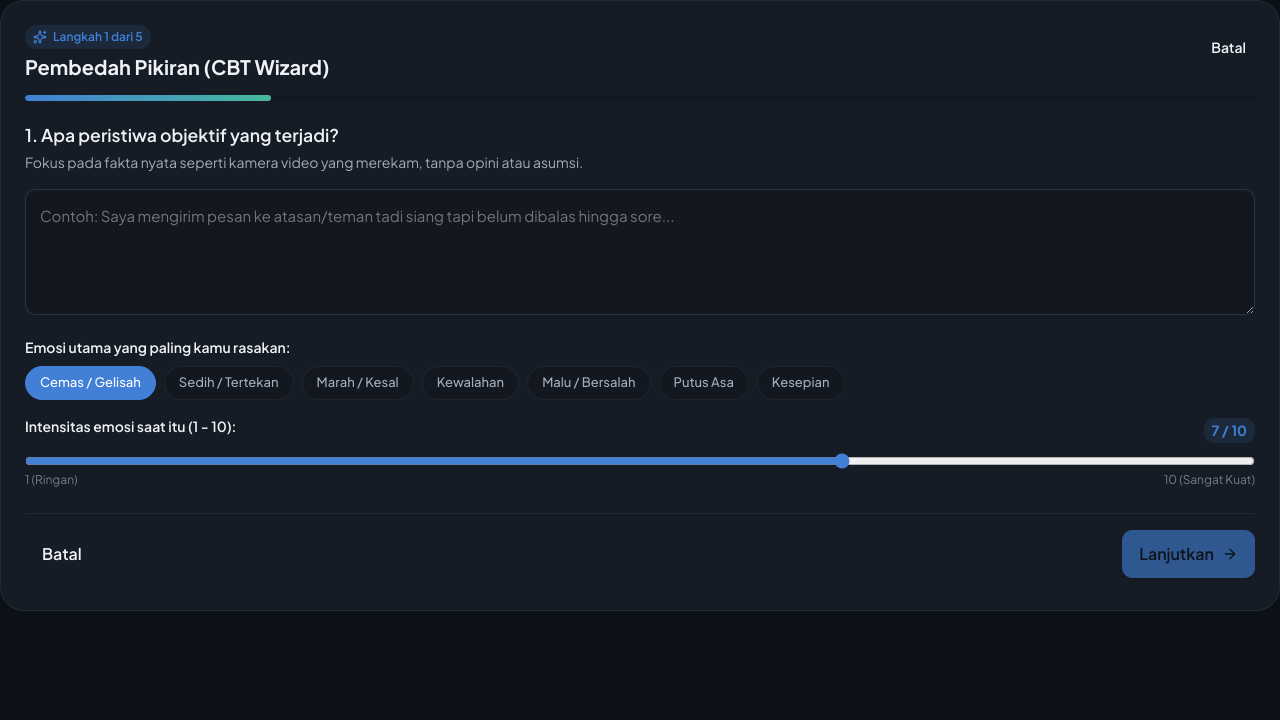
Scenario: CbtWizard Component › disables next button until situation is entered in Step 1
expect the button "Lanjutkan" is disabled: met, box [1122,530,1255,578]
Replace the text in the text box named "Apa peristiwa objektif yang terjadi?" with "Pesan saya tidak dibalas seharian". click: (640, 252)
box: [25,189,1255,315]
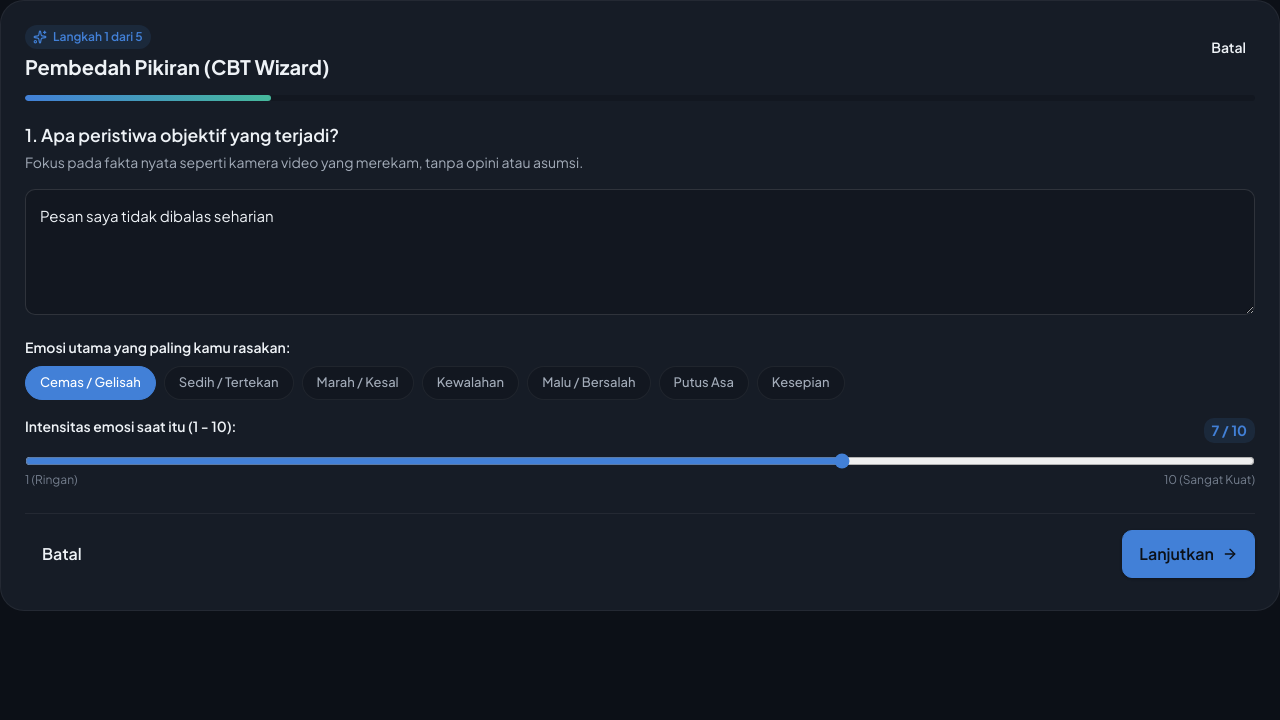
expect the button "Lanjutkan" is enabled: met, box [1122,530,1255,578]
